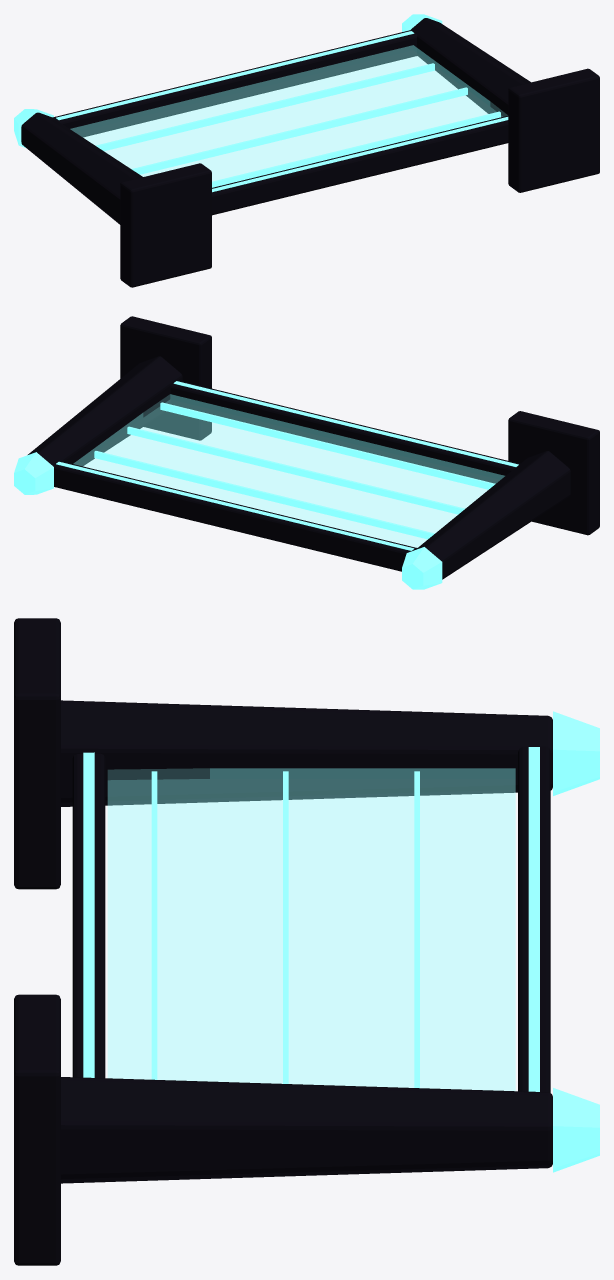
File: CyberShieldBarrier.fbx
3 views of the same model, one above another, from view 1: azimuth 30°, elevation 25°; view 2: azimuth 150°, elevation 25°; view 3: azimuth 270°, elevation 25° (orthographic). The views are drawn at different scales.
Parts seen in each view (by area): view 1: CSB_variant shield barrier pylons, CSB_variant shield barrier cyan shield pane, CSB_variant shield barrier cyan emitters; view 2: CSB_variant shield barrier pylons, CSB_variant shield barrier cyan shield pane, CSB_variant shield barrier cyan emitters; view 3: CSB_variant shield barrier pylons, CSB_variant shield barrier cyan shield pane, CSB_variant shield barrier cyan emitters.
Part boxes in pixels (bbox=[...]): CSB_variant shield barrier pylons: bbox=[21, 18, 599, 287]; CSB_variant shield barrier cyan shield pane: bbox=[70, 45, 507, 187]; CSB_variant shield barrier cyan emitters: bbox=[14, 14, 508, 192]; CSB_variant shield barrier pylons: bbox=[28, 316, 599, 579]; CSB_variant shield barrier cyan shield pane: bbox=[73, 394, 504, 547]; CSB_variant shield barrier cyan emitters: bbox=[14, 381, 518, 589]; CSB_variant shield barrier pylons: bbox=[14, 618, 552, 1265]; CSB_variant shield barrier cyan shield pane: bbox=[108, 768, 515, 1090]; CSB_variant shield barrier cyan emitters: bbox=[83, 711, 599, 1172].
Bounding box in the file's own units: 230 × 46 × 125.
